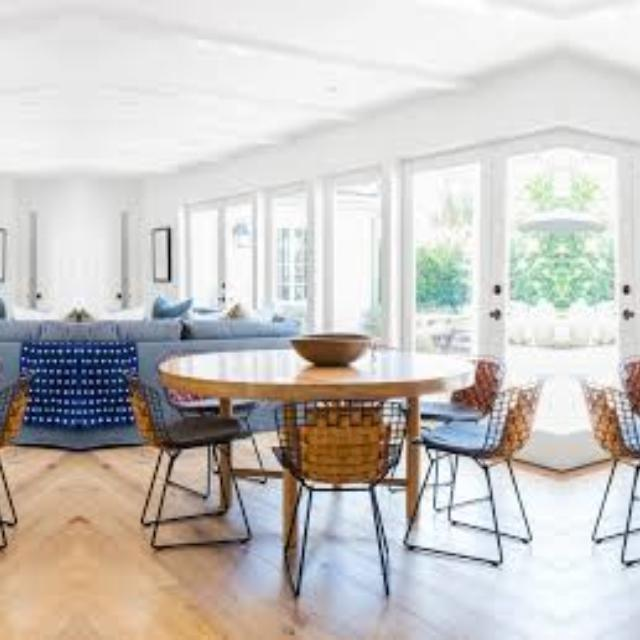obstacle: (109, 263, 562, 611), (561, 263, 640, 611), (0, 263, 47, 611)
